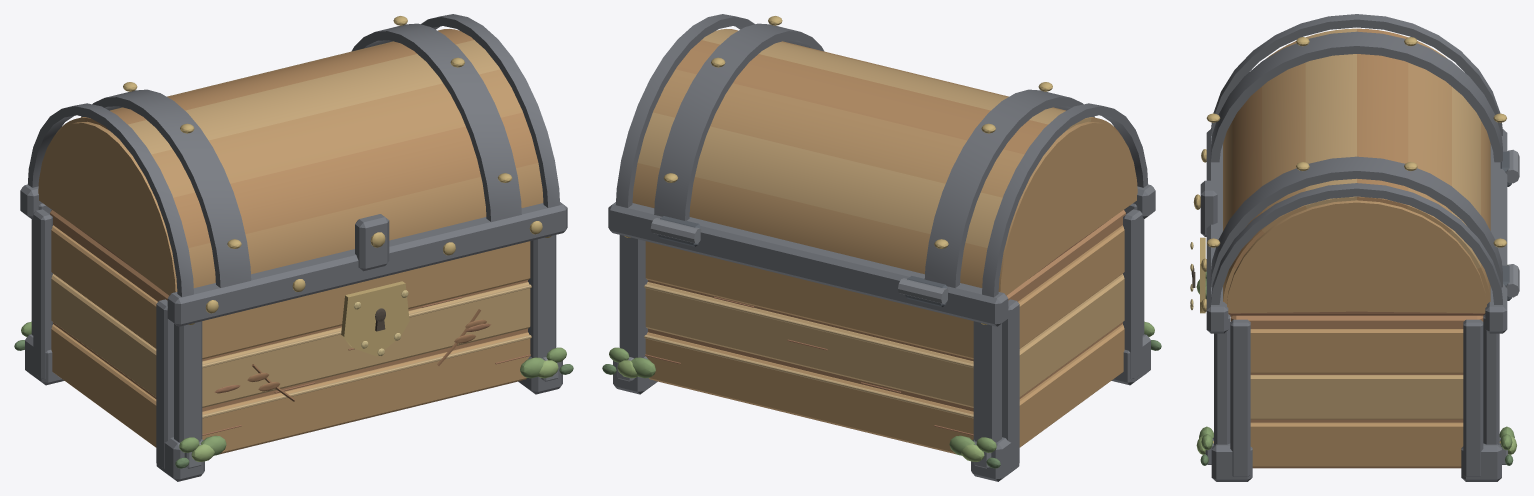
Rendered from chest.fairy.glb.
3 renders of one model, left to right at view 1: azimuth 30°, elevation 25°; view 2: azimuth 150°, elevation 25°; view 3: azimuth 270°, elevation 25°, orthographic. The views are drawn at different scales.
Visible parts, largest first — view 1: Chest_Lid, Chest_Body; view 2: Chest_Lid, Chest_Body; view 3: Chest_Lid, Chest_Body.
Part boxes in pixels (box(x1,y1,x2,y2)): Chest_Lid: box(27, 14, 560, 297); Chest_Body: box(14, 184, 573, 481); Chest_Lid: box(615, 14, 1148, 304); Chest_Body: box(602, 184, 1161, 481); Chest_Lid: box(1193, 14, 1519, 315); Chest_Body: box(1190, 129, 1516, 481).
Size of the model in its own units: 1.19 by 0.888 by 0.9024.
